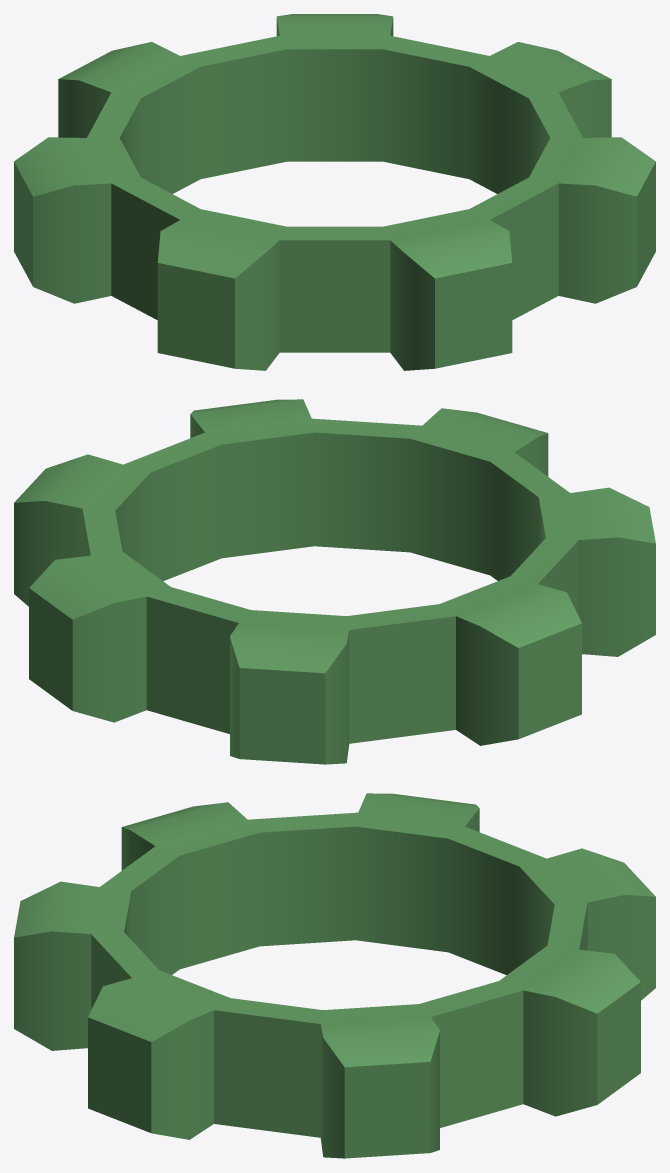
File: gear_C.FBX
The picture shows the model from 3 angles, top to bottom: view 1: azimuth 30°, elevation 25°; view 2: azimuth 150°, elevation 25°; view 3: azimuth 270°, elevation 25°; orthographic projection.
Visible parts, largest first — view 1: pillar_gearC; view 2: pillar_gearC; view 3: pillar_gearC.
Part boxes in pixels (bbox=[...]): pillar_gearC: bbox=[14, 14, 655, 370]; pillar_gearC: bbox=[14, 399, 655, 764]; pillar_gearC: bbox=[14, 793, 655, 1158].
Size of the model in its own units: 10.32 by 2.1 by 10.23.
